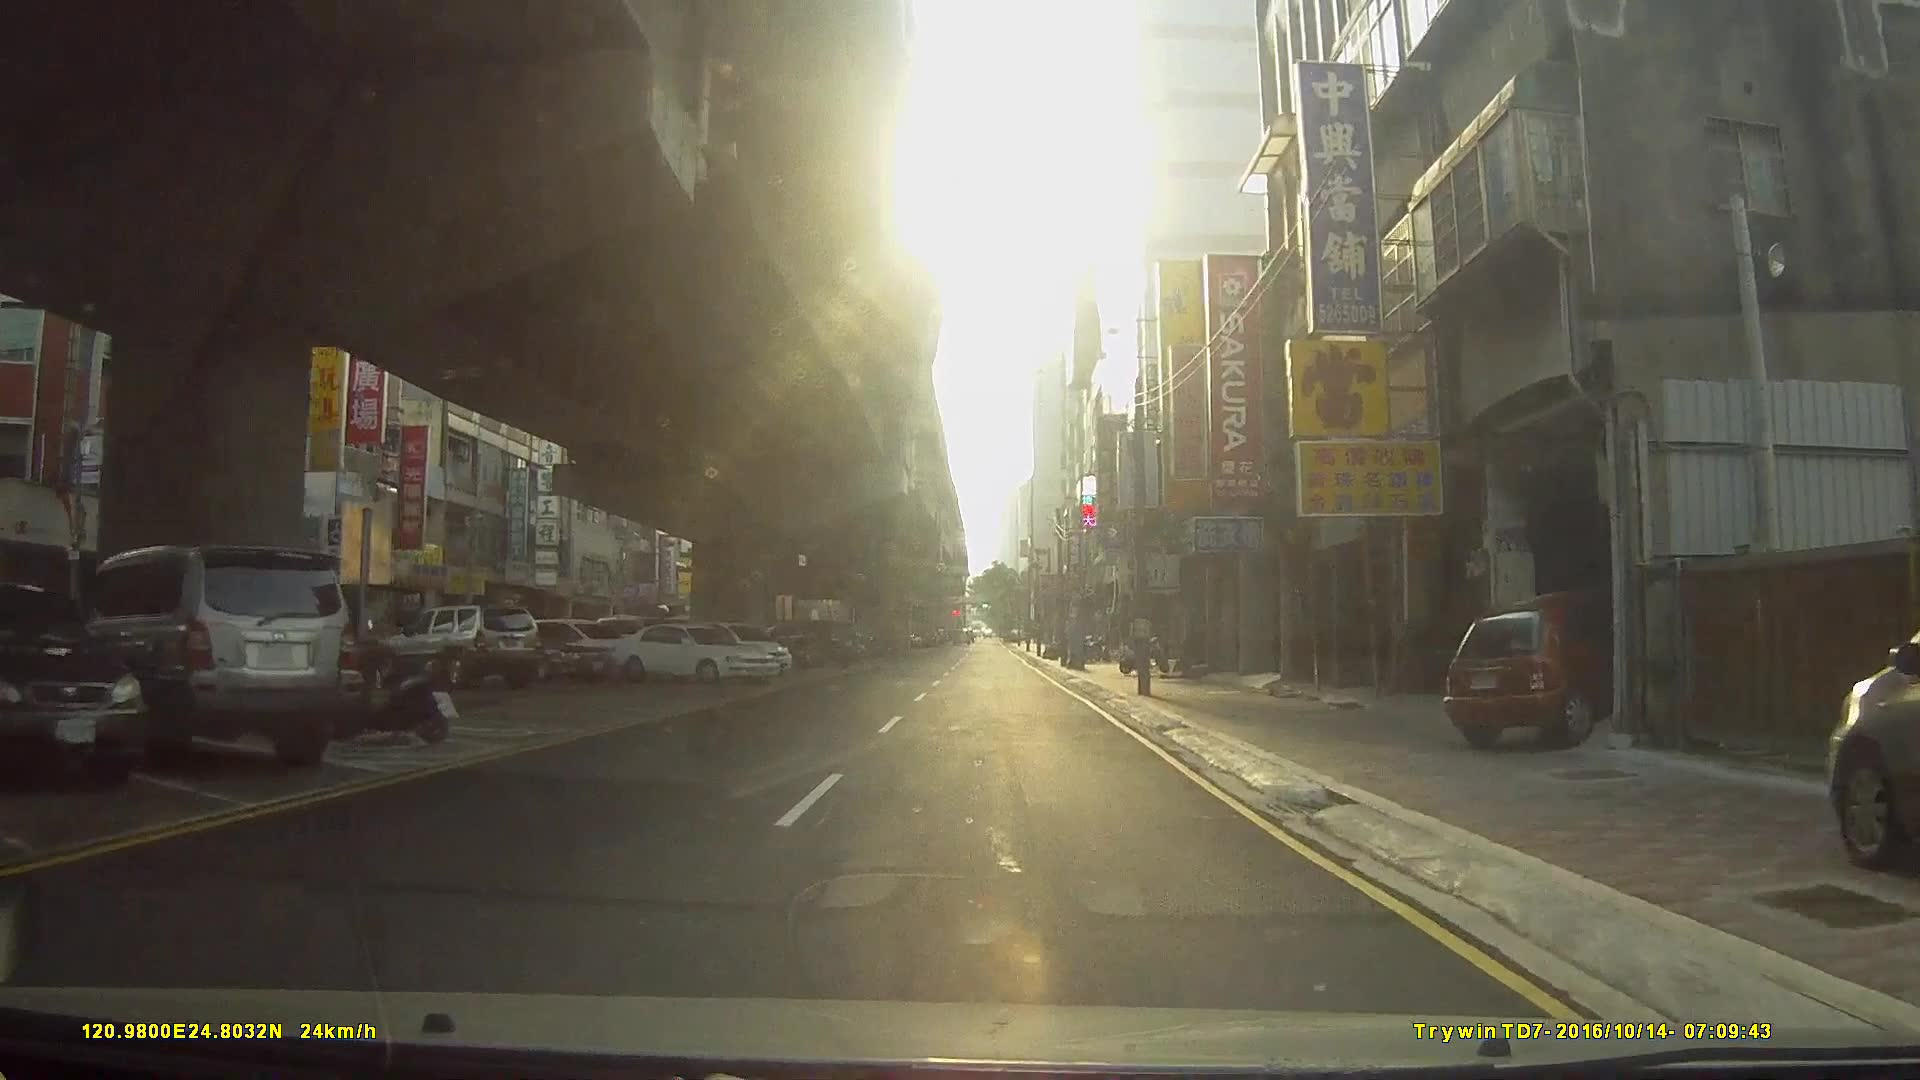vehicle: (45, 545, 361, 767), (1443, 585, 1652, 748), (0, 580, 150, 786), (1824, 626, 1920, 870), (377, 601, 541, 684), (440, 618, 609, 684), (609, 622, 781, 684)
